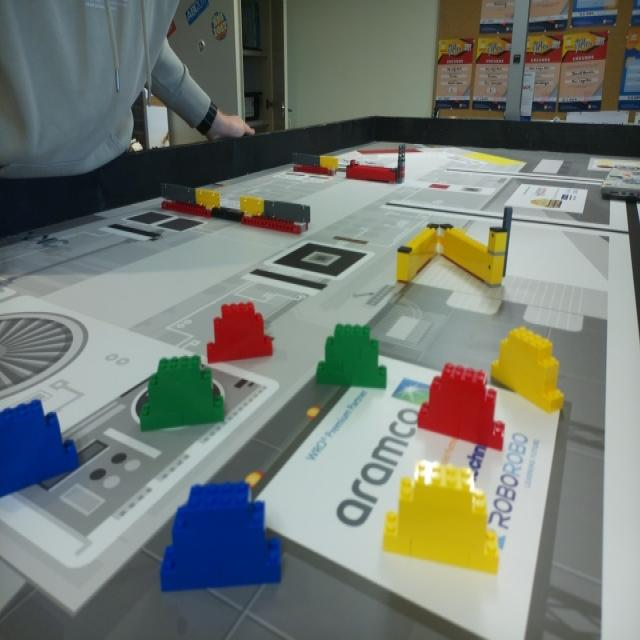blau: (160, 489, 283, 592), (0, 390, 77, 501)
gruen: (140, 357, 224, 431), (317, 324, 388, 390)
rot: (419, 364, 505, 452), (206, 302, 274, 364)
yellow: (383, 468, 492, 575), (493, 330, 568, 410)
